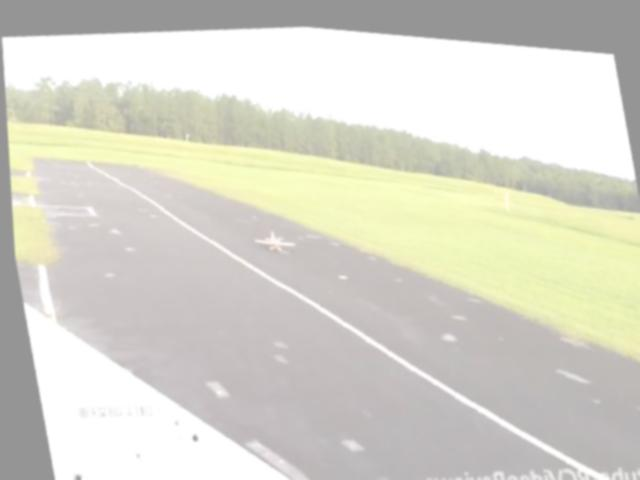uav: (245, 218, 297, 253)
